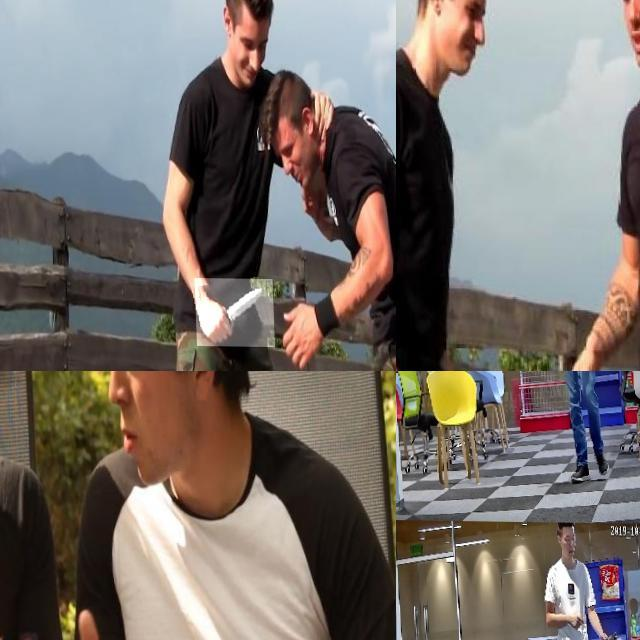-: (192, 277, 272, 346)
gun-knife-thesis - v11 Yolov5 augmented: (590, 623, 613, 640), (396, 371, 412, 388), (523, 371, 547, 380)
